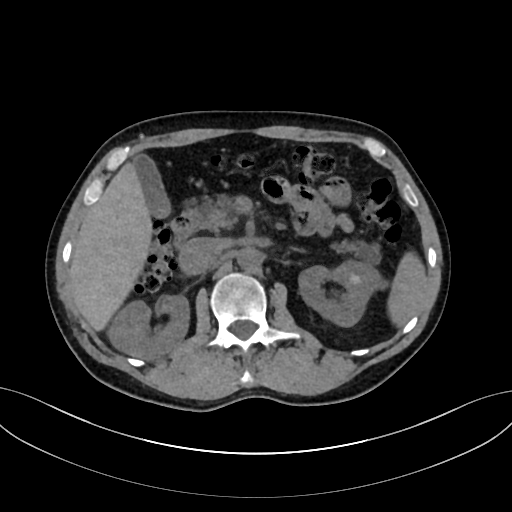Lesion: (346, 271, 364, 288)
